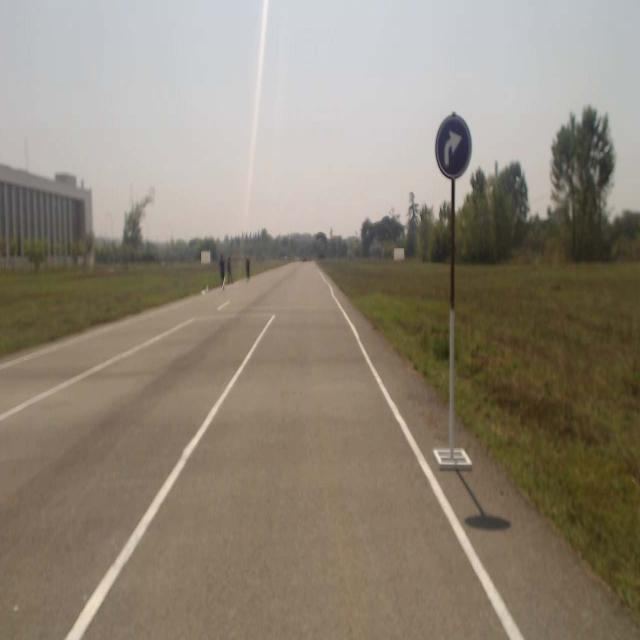sag: (436, 117, 470, 179)
